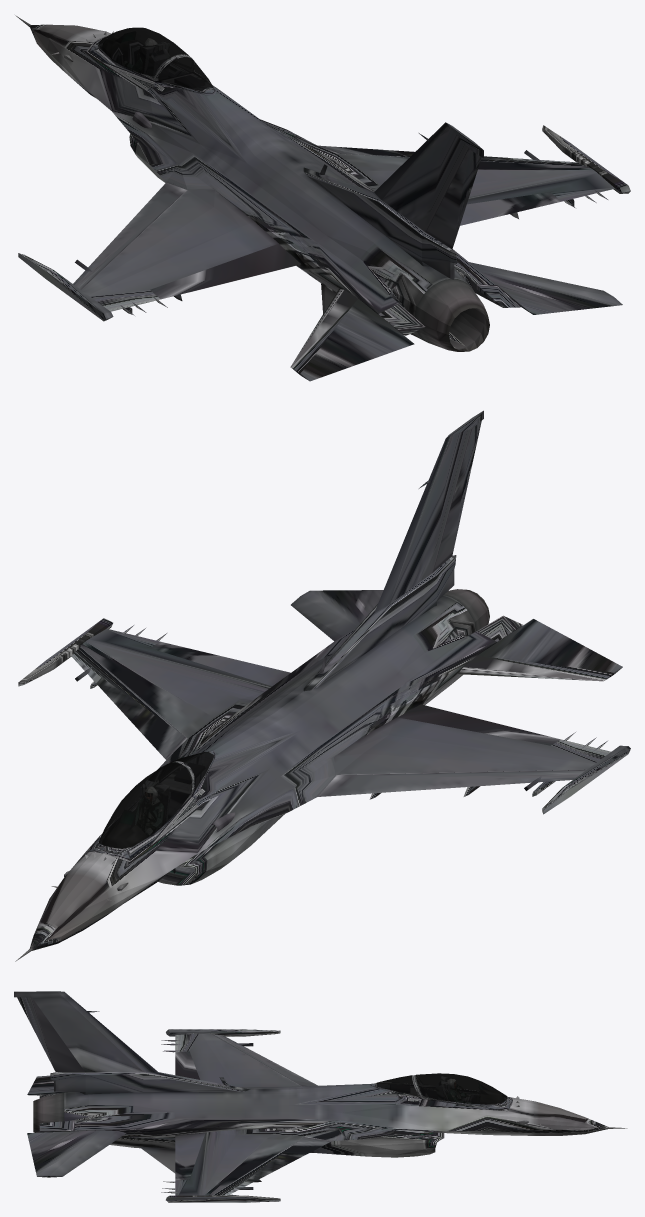
3 views of the same model, one above another, from view 1: azimuth 30°, elevation 25°; view 2: azimuth 150°, elevation 25°; view 3: azimuth 270°, elevation 25° (orthographic). The views are drawn at different scales.
Visible parts, largest first — view 1: Object_4, Object_8, Object_10; view 2: Object_4, Object_8, Object_12; view 3: Object_4, Object_8.
Boxes of the visible parts, x1,y1,x2,y2 form: Object_4: (15, 15, 630, 381); Object_8: (99, 27, 213, 91); Object_10: (140, 42, 170, 79); Object_4: (15, 410, 630, 961); Object_8: (99, 752, 213, 848); Object_12: (135, 787, 163, 836); Object_4: (14, 991, 627, 1202); Object_8: (376, 1073, 507, 1104).
Bounding box in the file's own units: 5.83 × 2.82 × 9.05.
Materials: 4 (3 with a texture image).
